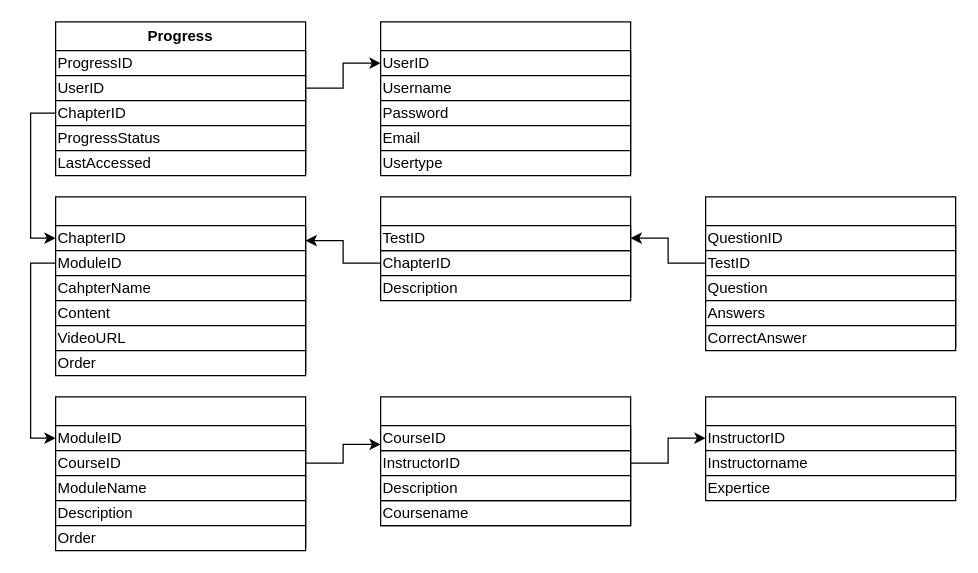
The diagram is 978 pixels wide and 573 high, and some of its shapes have lost their labels. The box of each missing label's shape, as (x1, y1, x2, y2) in pixels:
Chapters: (54, 196, 306, 372)
Courses: (379, 396, 631, 526)
Intructors: (704, 396, 956, 497)
Modules: (54, 396, 306, 547)
Questions: (704, 196, 956, 347)
Tests: (379, 196, 631, 297)
Users: (379, 21, 631, 172)
